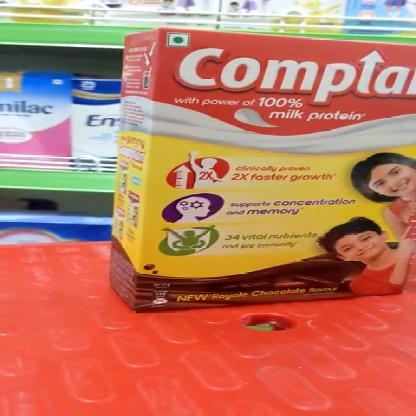Complan Royal Chocolate: (138, 30, 415, 314)
